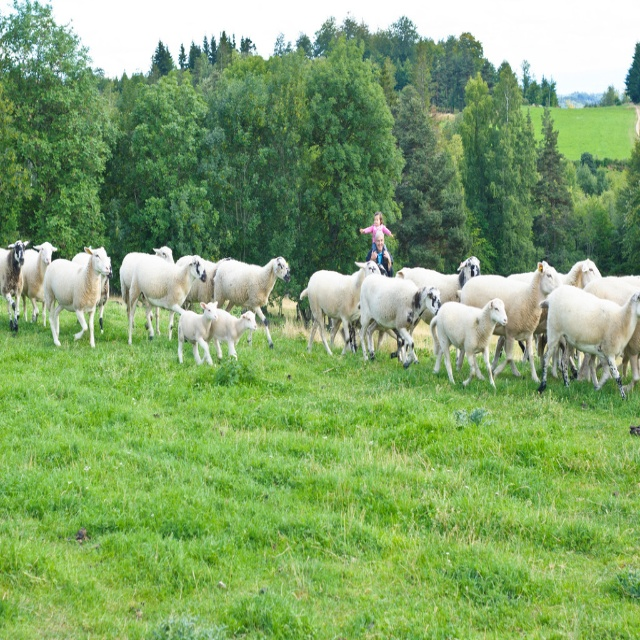Sheep: (0, 240, 640, 401)
